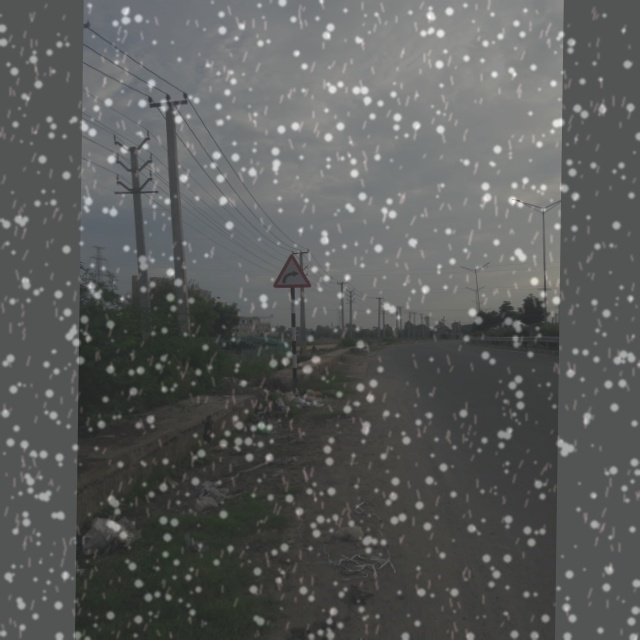Right_Hand_Curve: (273, 252, 313, 295)
